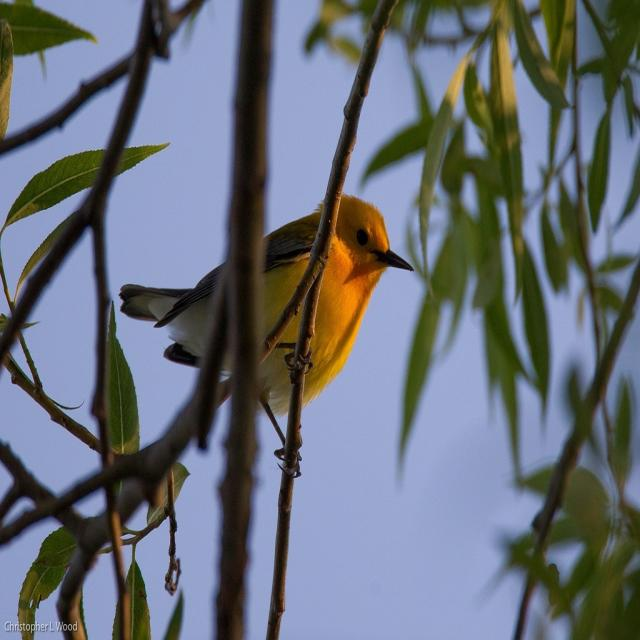bird: (115, 191, 416, 451)
